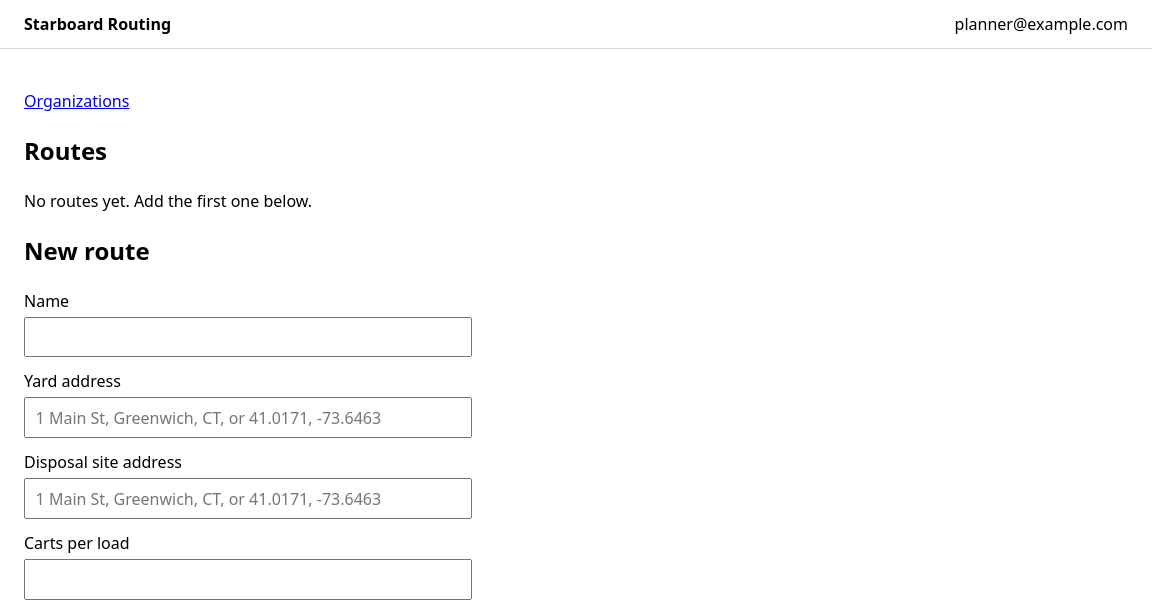
Test: pressing Enter shows the places that fit, to pick from
The image size is (1152, 613).
Type "Byram" into the field labelled "Name". click: (248, 337)
box: [24,317,472,357]
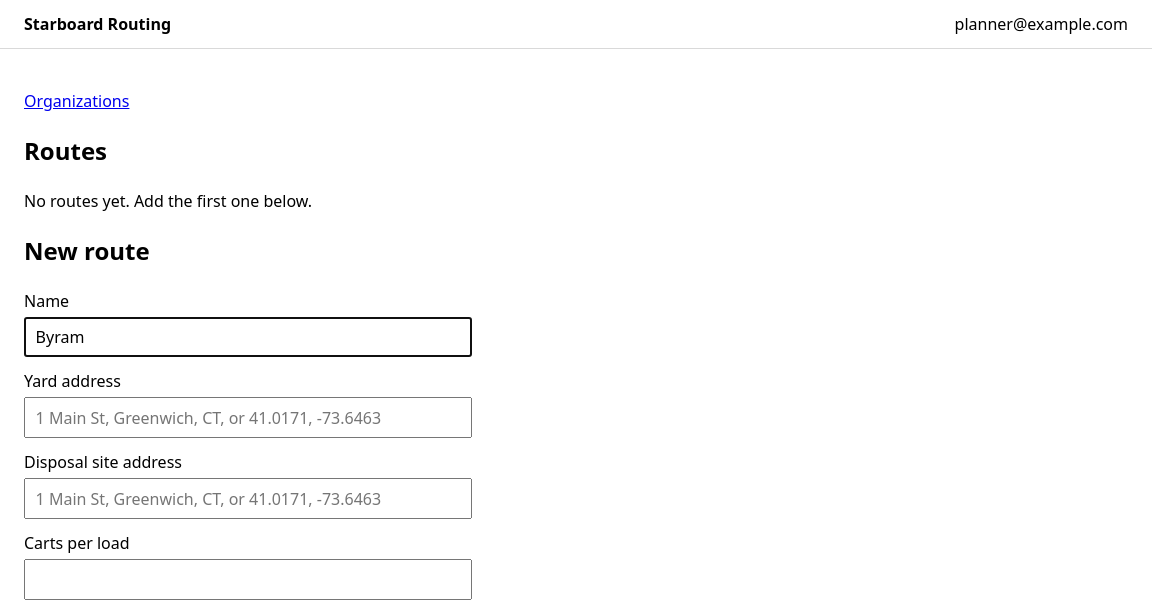
Type "41.02, -73.65" into the field labelled "Disposal site address". click: (248, 499)
box: [24,478,472,519]
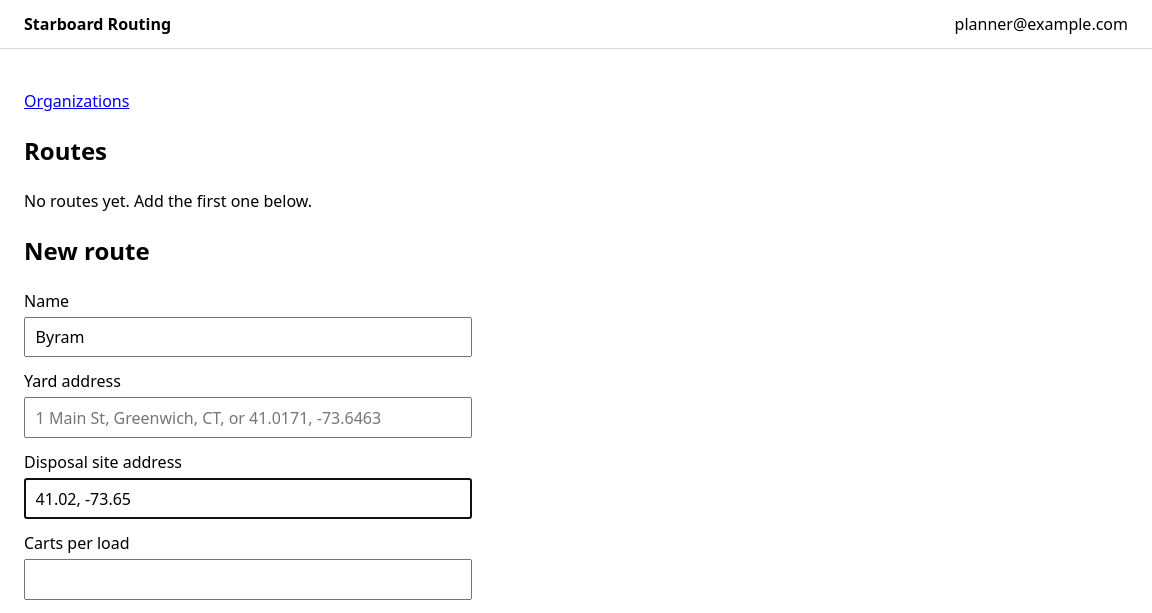
Type "1 Mill St" into the field labelled "Yard address". click: (248, 418)
box: [24,397,472,438]
Then press Enter
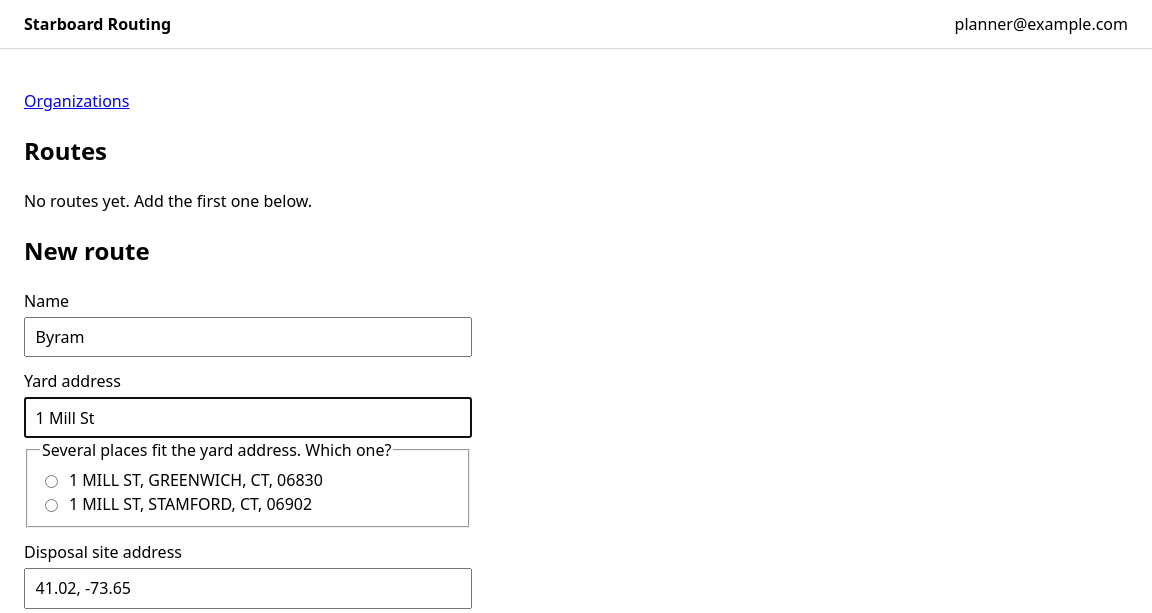
Result: the element "Several places fit the yard address. Which one?" shows "1 MILL ST, STAMFORD, CT, 06902" at [69,493,312,515]
